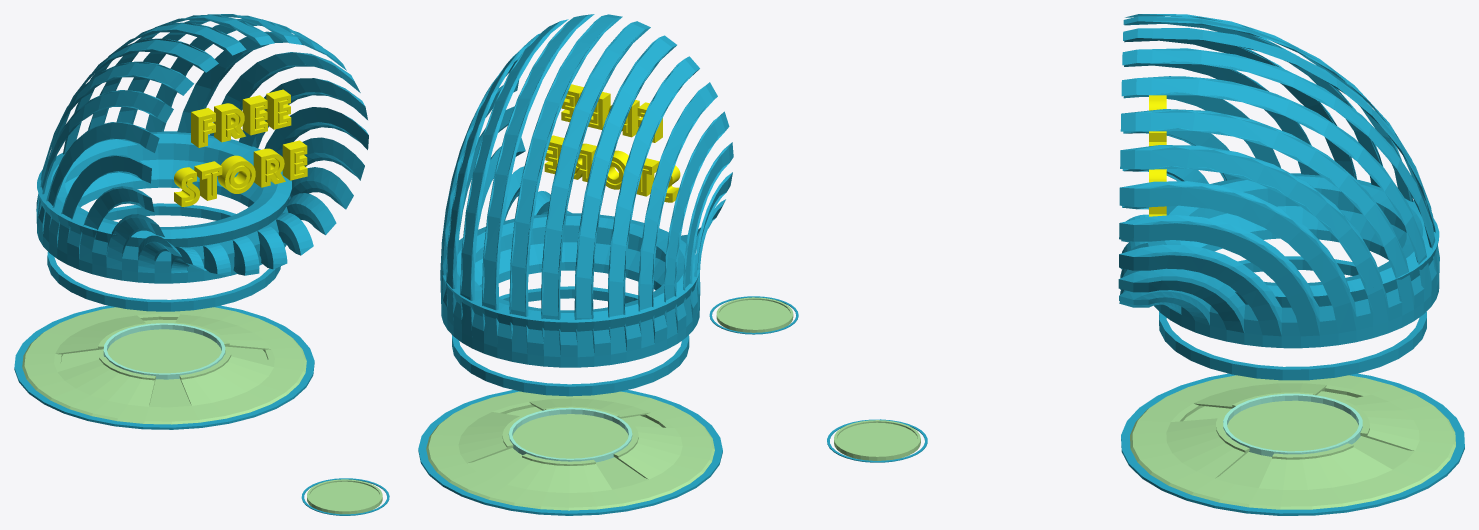
The model's file is FreeStore03.dae.
The picture shows the model from 3 angles, left to right: view 1: azimuth 30°, elevation 25°; view 2: azimuth 150°, elevation 25°; view 3: azimuth 270°, elevation 25°; orthographic projection. The views are drawn at different scales.
Parts seen in each view (by area): view 1: Torus, Cylinder, FREE_STORE, Cylinder_002, Cylinder_003, Cylinder_005, Cylinder_004, Cylinder_001; view 2: Torus, Cylinder, FREE_STORE, Cylinder_002, Cylinder_003, Cylinder_005, Cylinder_004, Cylinder_001; view 3: Torus, Cylinder, Cylinder_002, Cylinder_003, Cylinder_005, Cylinder_004, FREE_STORE.
Boxes of the visible parts, x1,y1,x2,y2 form: Torus: [36, 14, 368, 283]; Cylinder: [22, 307, 306, 424]; FREE_STORE: [174, 89, 307, 206]; Cylinder_002: [47, 203, 280, 311]; Cylinder_003: [14, 305, 314, 429]; Cylinder_005: [307, 479, 382, 514]; Cylinder_004: [103, 323, 225, 379]; Cylinder_001: [301, 478, 389, 515]; Torus: [440, 14, 733, 367]; Cylinder: [426, 391, 714, 510]; FREE_STORE: [544, 84, 680, 202]; Cylinder_002: [452, 286, 689, 396]; Cylinder_003: [418, 390, 722, 515]; Cylinder_005: [716, 297, 793, 332]; Cylinder_004: [508, 407, 632, 462]; Cylinder_001: [709, 296, 798, 334]; Torus: [1118, 14, 1439, 348]; Cylinder: [1130, 375, 1455, 509]; Cylinder_002: [1159, 256, 1426, 380]; Cylinder_003: [1121, 373, 1464, 515]; Cylinder_005: [834, 420, 920, 460]; Cylinder_004: [1223, 393, 1362, 456]; FREE_STORE: [1149, 95, 1166, 216].
Bounding box in the file's own units: 29.6 × 54.43 × 40.57.
